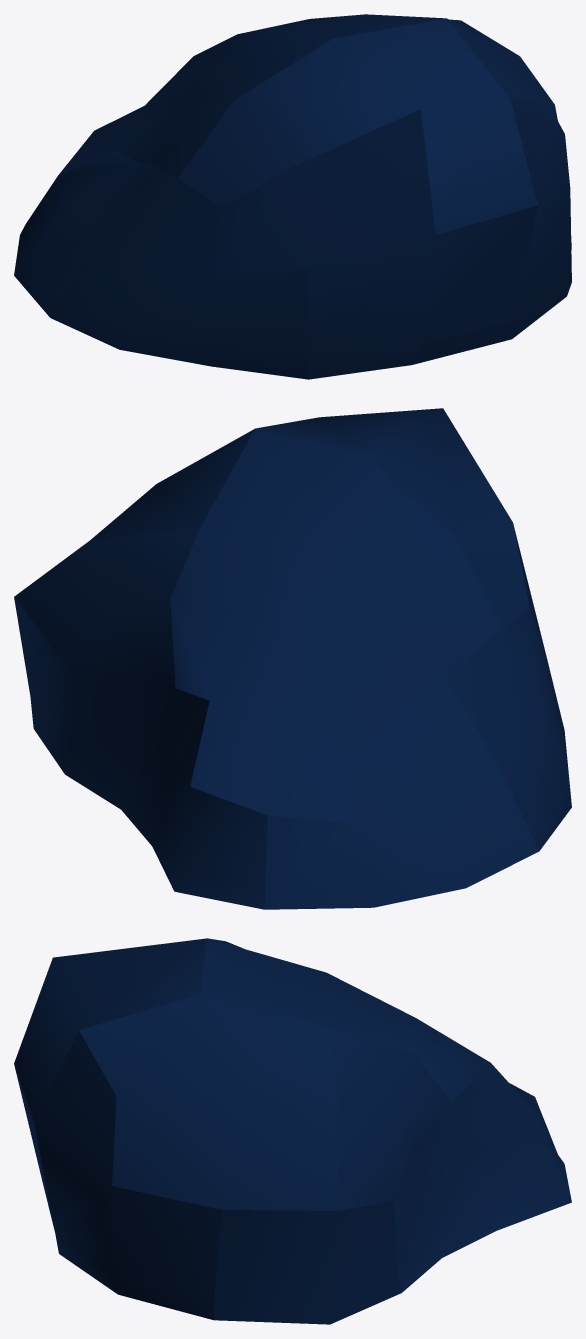
File: Rock4.fbx
The picture shows the model from 3 angles, top to bottom: view 1: azimuth 30°, elevation 25°; view 2: azimuth 150°, elevation 25°; view 3: azimuth 270°, elevation 25°; orthographic projection. The views are drawn at different scales.
Parts seen in each view (by area): view 1: Cube; view 2: Cube; view 3: Cube.
Boxes of the visible parts, <box> form: Cube: <box>14,14,571,379</box>; Cube: <box>14,408,571,909</box>; Cube: <box>14,938,571,1324</box>.
Size of the model in its own units: 269 by 143 by 272.
